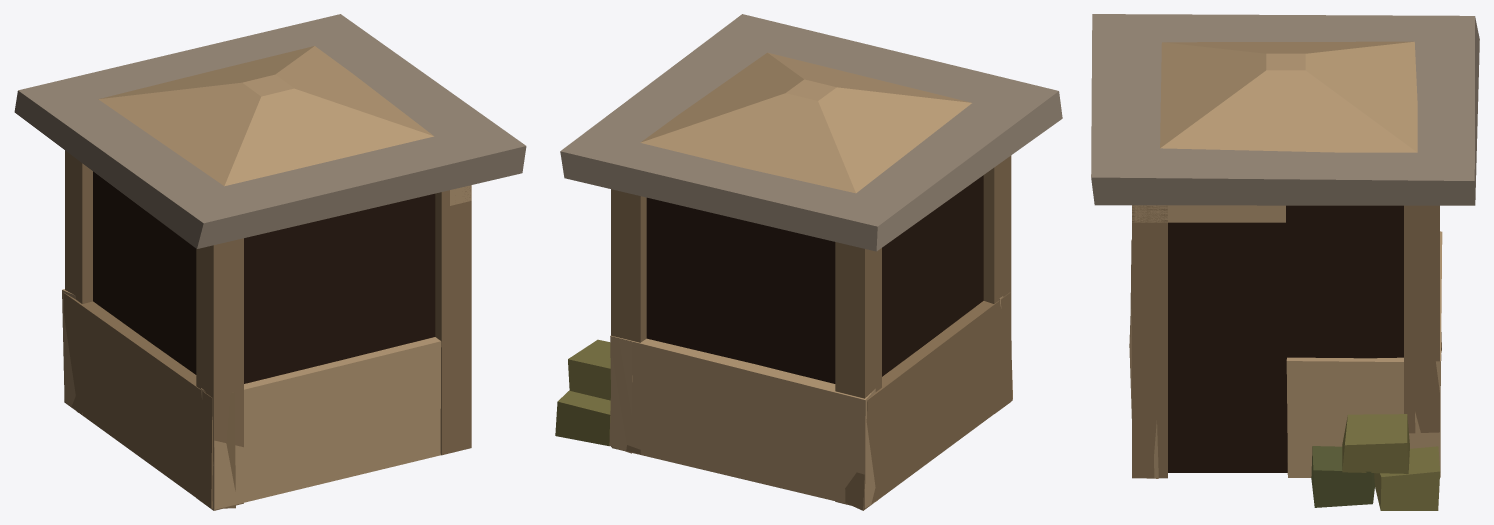
File: guard_post.glb
The picture shows the model from 3 angles, left to right: view 1: azimuth 30°, elevation 25°; view 2: azimuth 150°, elevation 25°; view 3: azimuth 270°, elevation 25°; orthographic projection. The views are drawn at different scales.
Parts seen in each view (by area): view 1: guard_post; view 2: guard_post; view 3: guard_post.
Part boxes in pixels (<box>): guard_post: <box>14,14,526,510</box>; guard_post: <box>555,14,1062,510</box>; guard_post: <box>1091,14,1479,510</box>.
Size of the model in its own units: 3.3 by 3.05 by 3.03.
